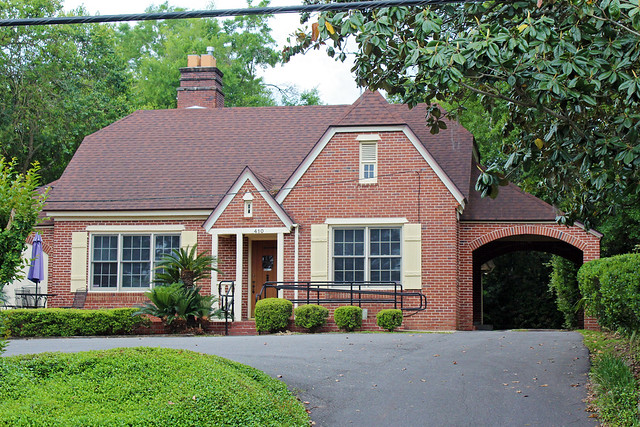medium: (24, 54, 602, 336)
